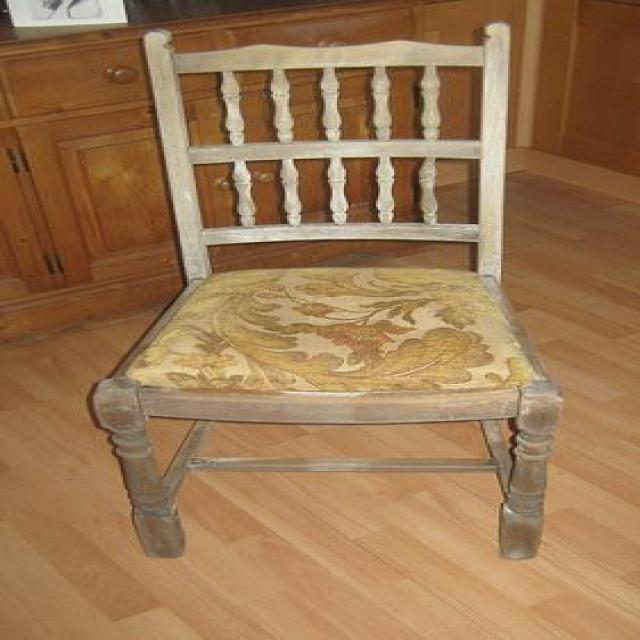chair: (86, 19, 565, 560)
